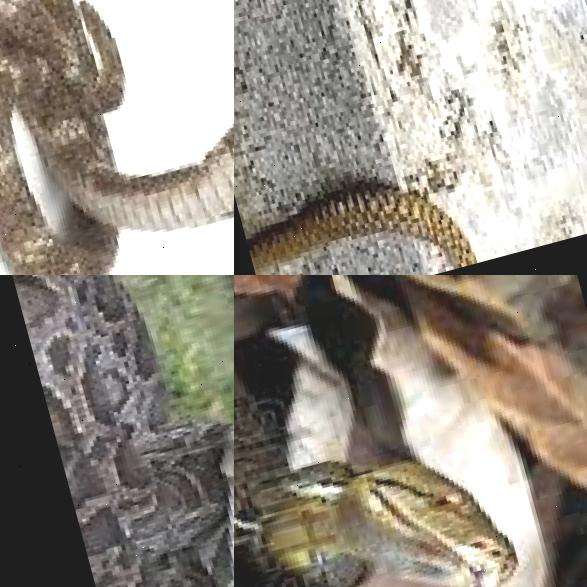snake: (234, 279, 563, 587), (234, 0, 587, 275), (4, 275, 234, 587), (0, 0, 234, 275)
